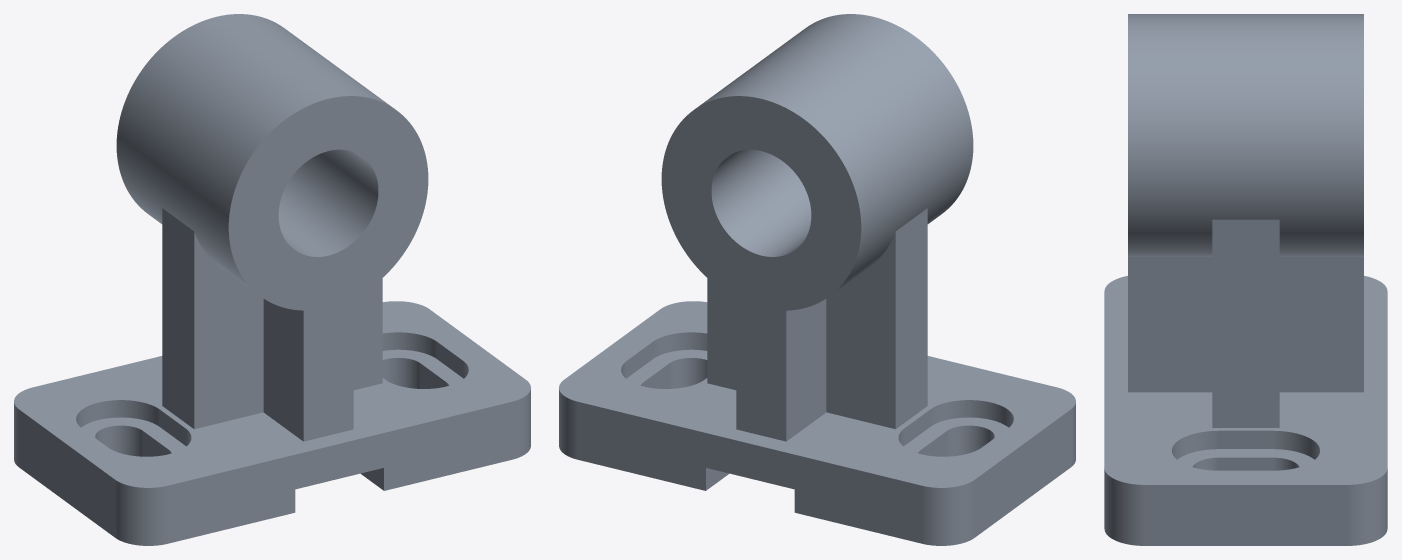
File: ax_pedestal_bearing.glb
3 views of the same model, side by side, from view 1: azimuth 30°, elevation 25°; view 2: azimuth 150°, elevation 25°; view 3: azimuth 270°, elevation 25° (orthographic). The views are drawn at different scales.
Parts seen in each view (by area): view 1: pedestal bearing; view 2: pedestal bearing; view 3: pedestal bearing.
Part boxes in pixels (<box>): pedestal bearing: <box>14,14,530,545</box>; pedestal bearing: <box>559,14,1075,545</box>; pedestal bearing: <box>1104,14,1387,545</box>.
Size of the model in its own units: 74 by 68 by 42.
